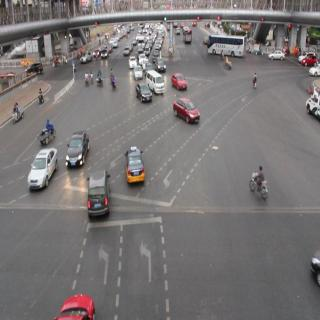BigCar: (207, 33, 246, 58)
Car: (27, 148, 57, 194), (86, 166, 111, 220), (65, 126, 88, 173), (122, 146, 146, 184), (172, 97, 201, 125), (134, 82, 152, 108), (147, 72, 166, 94), (171, 73, 186, 92), (269, 49, 283, 62), (79, 51, 92, 65), (302, 54, 316, 66), (156, 56, 166, 71), (128, 54, 138, 68), (134, 67, 143, 79), (122, 46, 129, 57), (101, 49, 108, 58), (94, 46, 99, 58)
